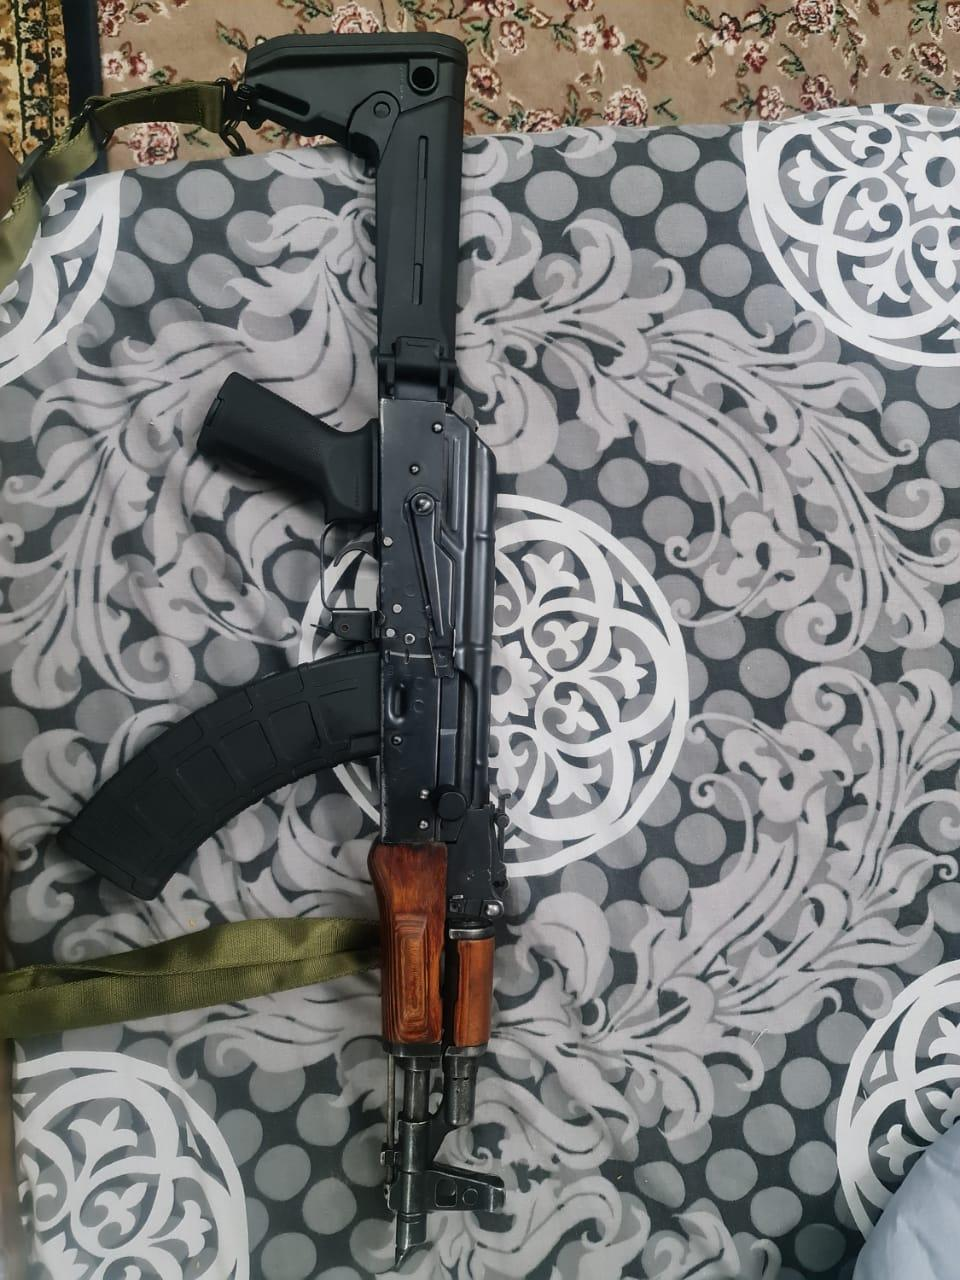weapon: (57, 28, 511, 1266)
